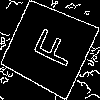F: (24, 22, 78, 70)
